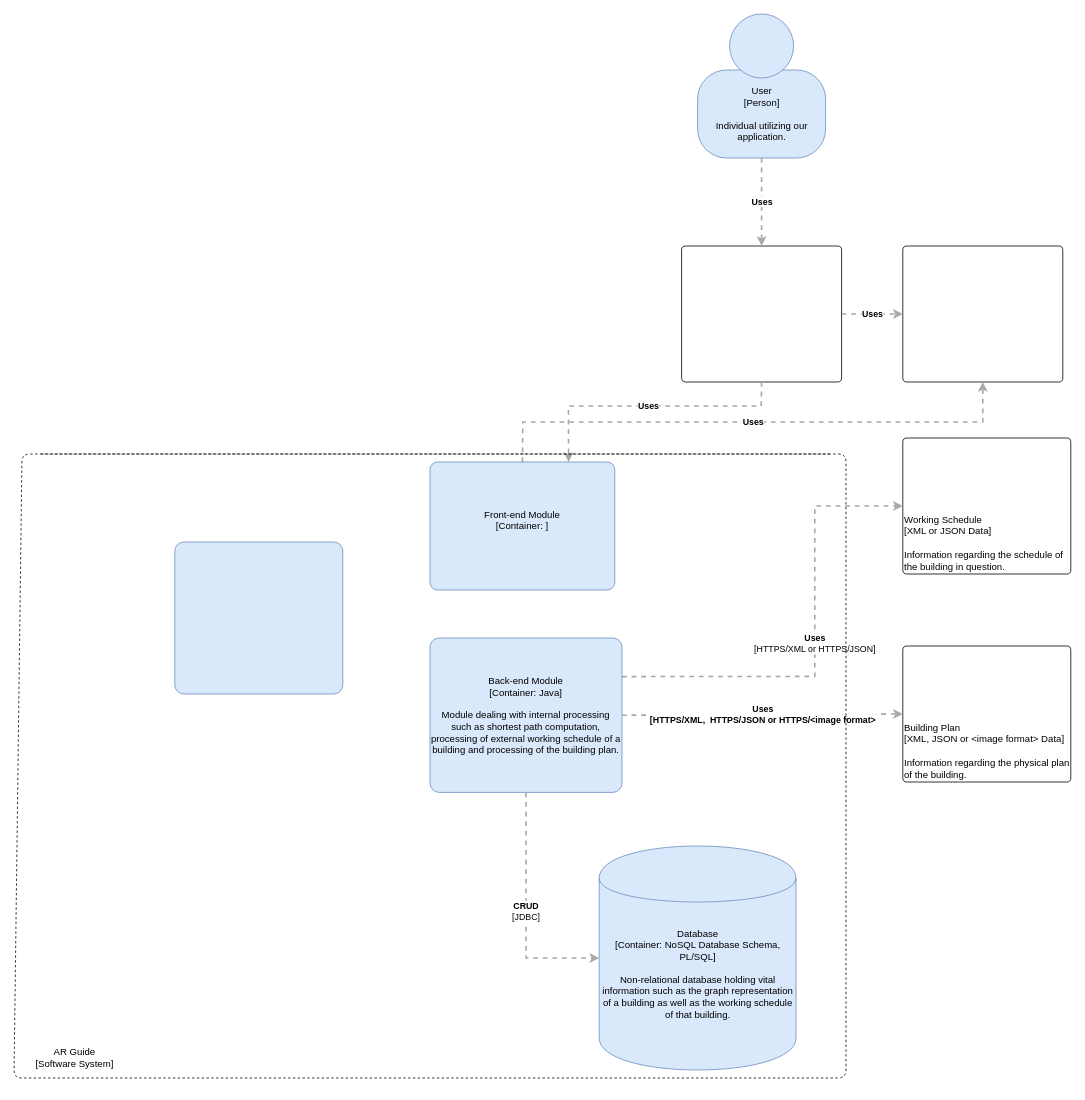
Some shapes in this 1085 by 1100 pixel diagram are drawn without their labels. The shapes that lost their labels are listed below. From the top down, each one's centre as x and y in pixels, then its label:
the point at 761,313: Android Device [Software System] A common android device.
the point at 982,313: Camera [Software System] A simple video-capturing camera.
the point at 258,617: Testing Module [Container: ]
